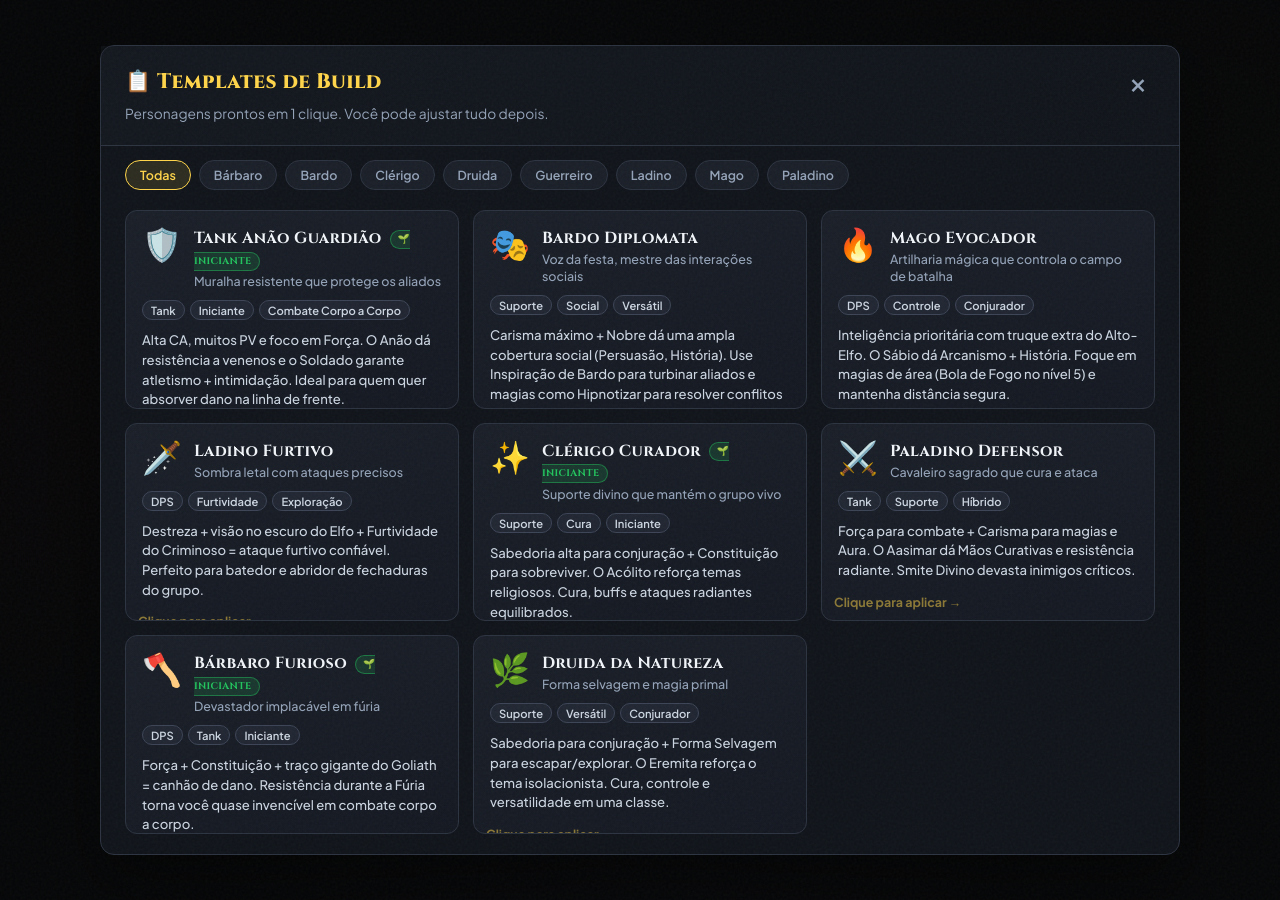
Test: BuildTemplatesModal — filtro por classe › o chip "Todas" restaura a lista completa
The image size is (1280, 900).
Click the button "Bardo".
click(319, 175)  # box [285,160,352,190]
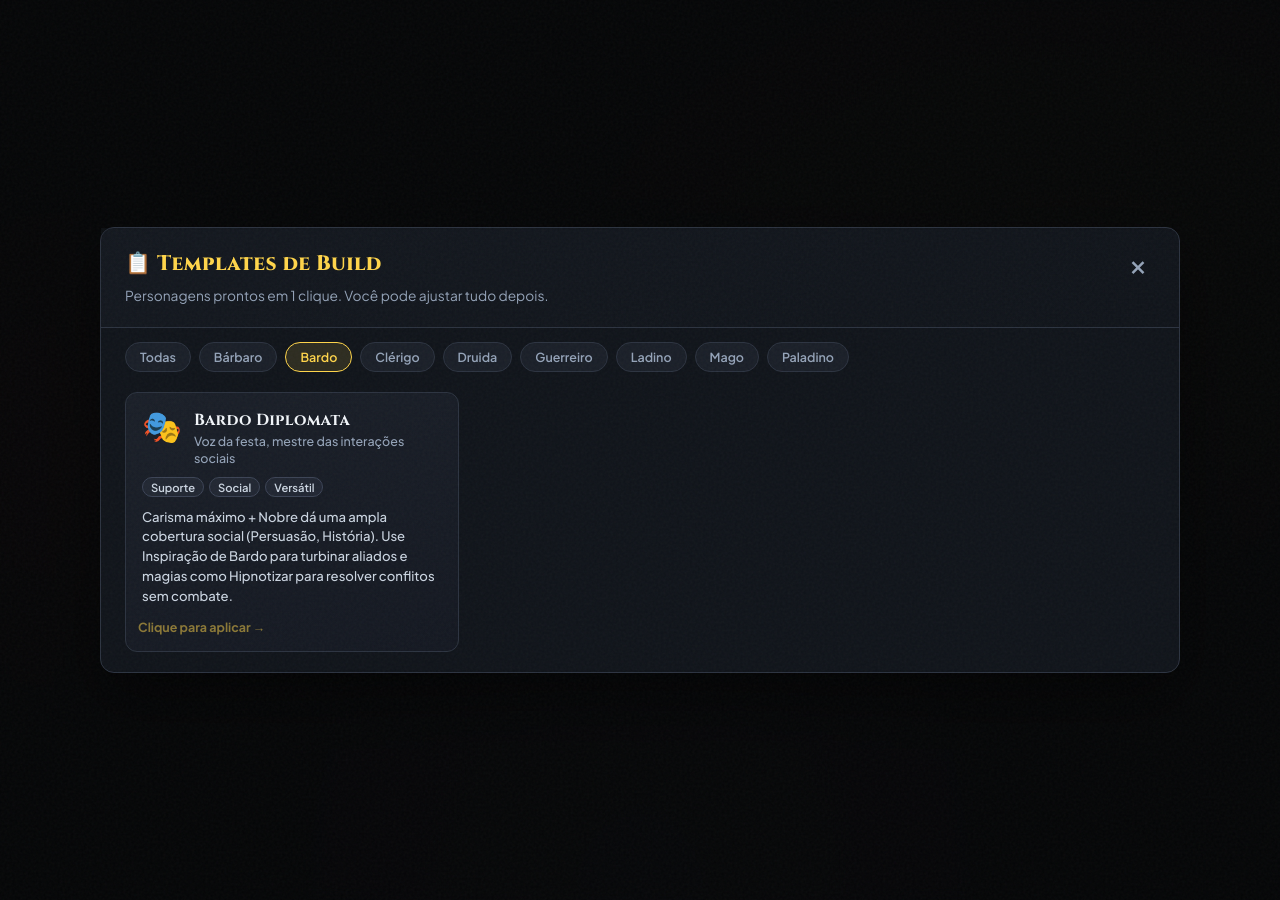
Click the button "Todas".
click(158, 357)  # box [125,342,191,372]
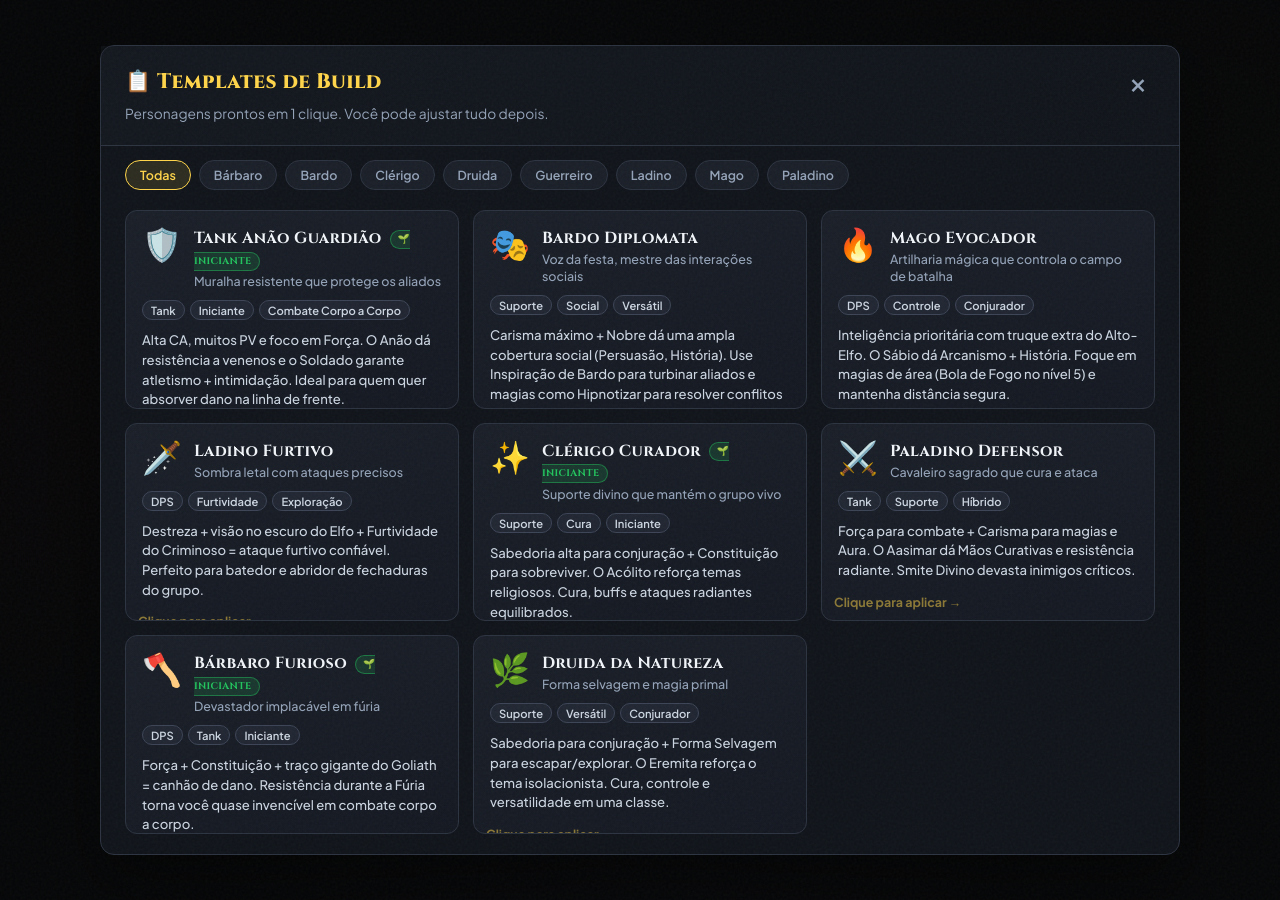
Check: the heading "Tank Anão Guardião🌱 Iniciante" is shown, box [194,227,442,271]
Check: the heading "Druida da Natureza" is shown, box [542,652,728,674]
